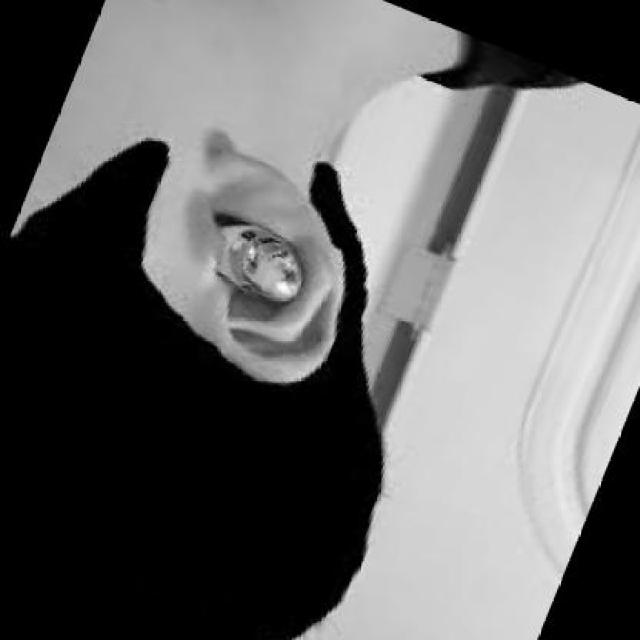earphone: (202, 214, 314, 294)
